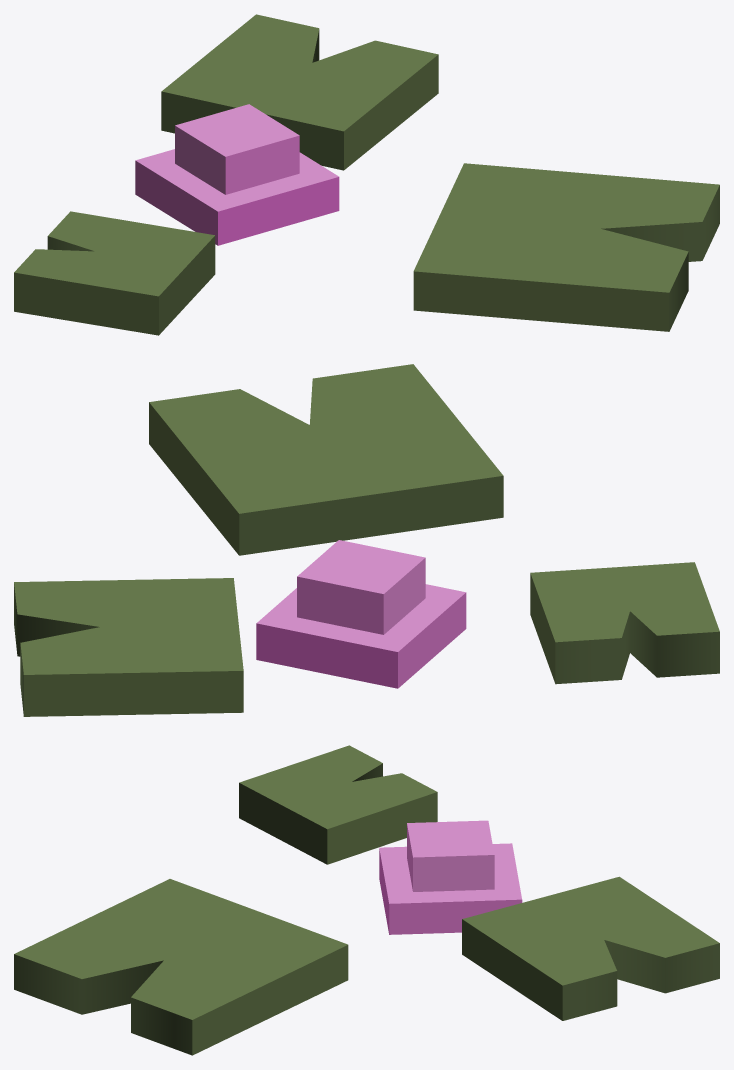
The model's file is SF_Env_RiverPlants_01.FBX.
3 views of the same model, one above another, from view 1: azimuth 30°, elevation 25°; view 2: azimuth 150°, elevation 25°; view 3: azimuth 270°, elevation 25° (orthographic). The views are drawn at different scales.
Visible parts, largest first — view 1: SF_Env_RiverPlants_01, SF_Env_RiverPlants_01_Elements2, SF_Env_RiverPlants_01_Elements1, SF_Env_RiverPlants_01_Elements4, SF_Env_RiverPlants_01_Elements3; view 2: SF_Env_RiverPlants_01, SF_Env_RiverPlants_01_Elements2, SF_Env_RiverPlants_01_Elements1, SF_Env_RiverPlants_01_Elements4, SF_Env_RiverPlants_01_Elements3; view 3: SF_Env_RiverPlants_01, SF_Env_RiverPlants_01_Elements2, SF_Env_RiverPlants_01_Elements1, SF_Env_RiverPlants_01_Elements4, SF_Env_RiverPlants_01_Elements3.
Boxes of the visible parts, x1,y1,x2,y2 form: SF_Env_RiverPlants_01: (14,14,719,335); SF_Env_RiverPlants_01_Elements2: (414,164,716,270); SF_Env_RiverPlants_01_Elements1: (163,18,373,130); SF_Env_RiverPlants_01_Elements4: (135,105,334,244); SF_Env_RiverPlants_01_Elements3: (26,235,213,295); SF_Env_RiverPlants_01: (14,364,719,716); SF_Env_RiverPlants_01_Elements2: (156,380,501,513); SF_Env_RiverPlants_01_Elements1: (24,578,241,674); SF_Env_RiverPlants_01_Elements4: (256,542,463,686); SF_Env_RiverPlants_01_Elements3: (532,563,713,635); SF_Env_RiverPlants_01: (14,745,719,1055); SF_Env_RiverPlants_01_Elements2: (83,879,345,1015); SF_Env_RiverPlants_01_Elements1: (467,877,717,969); SF_Env_RiverPlants_01_Elements4: (379,821,521,933); SF_Env_RiverPlants_01_Elements3: (240,749,397,827).
Bounding box in the file's own units: 3.48 × 0.388 × 3.78.
